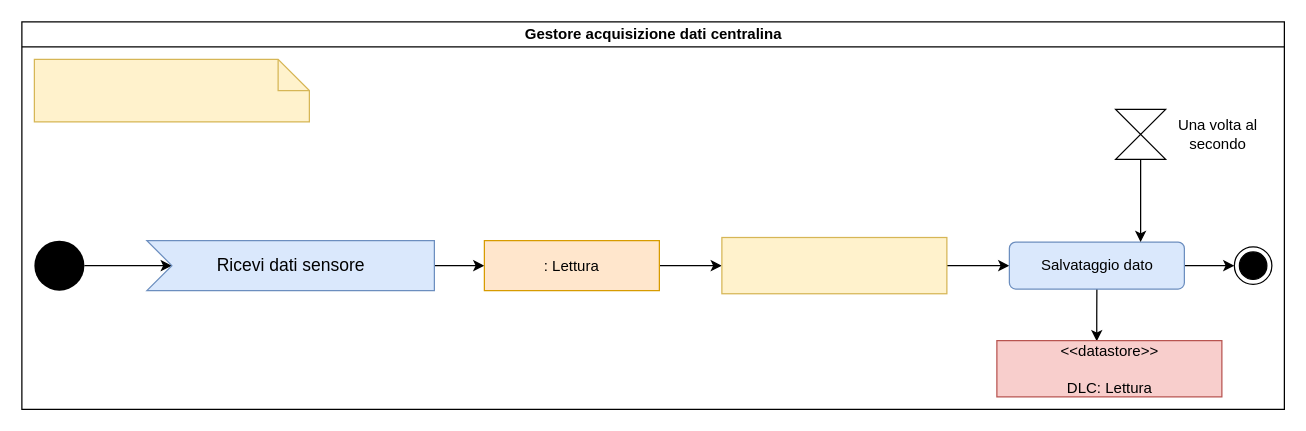
Some shapes in this 1306 by 431 pixel diagram are drawn without their labels. Each missing label, with the centre of its shape:
"<<buffer>> BLC: Lettura" belongs at point (834, 265).
"Molteplicità: # Centraline" belongs at point (171, 90).
